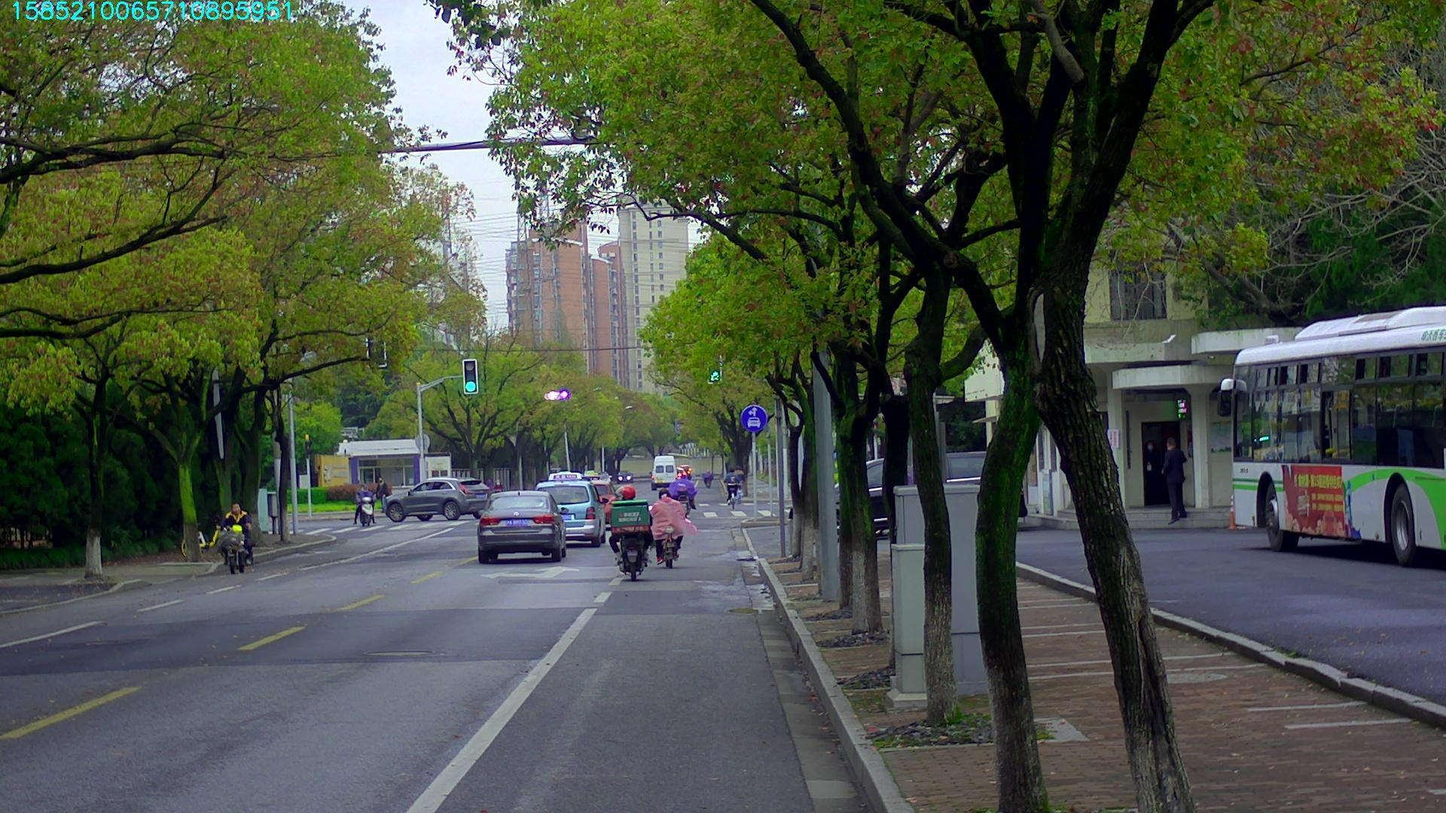green: (463, 359, 477, 393), (708, 357, 719, 382)
